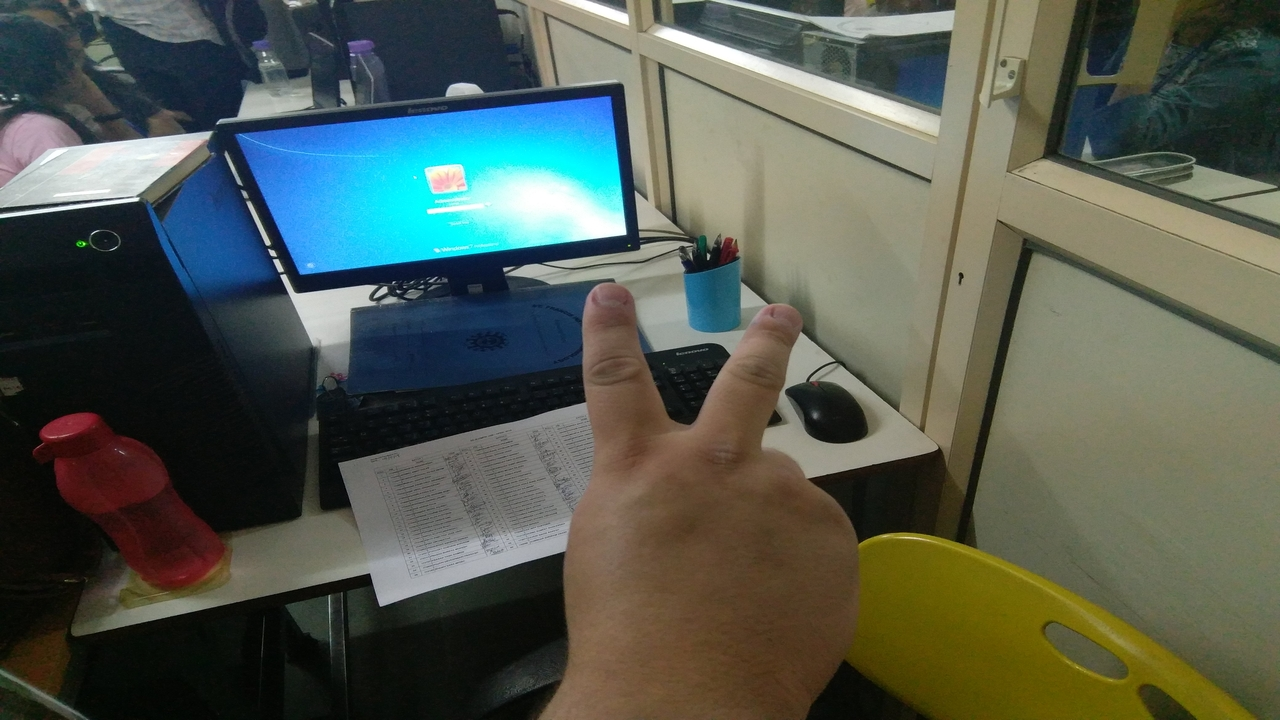fingertip: (744, 294, 808, 348), (578, 276, 644, 326)
